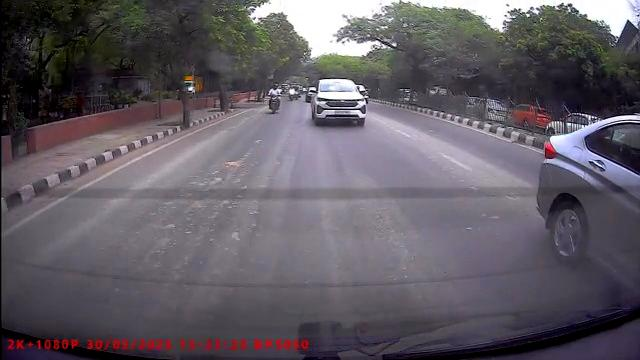motorcycle_with_helmet: (267, 84, 281, 114)
